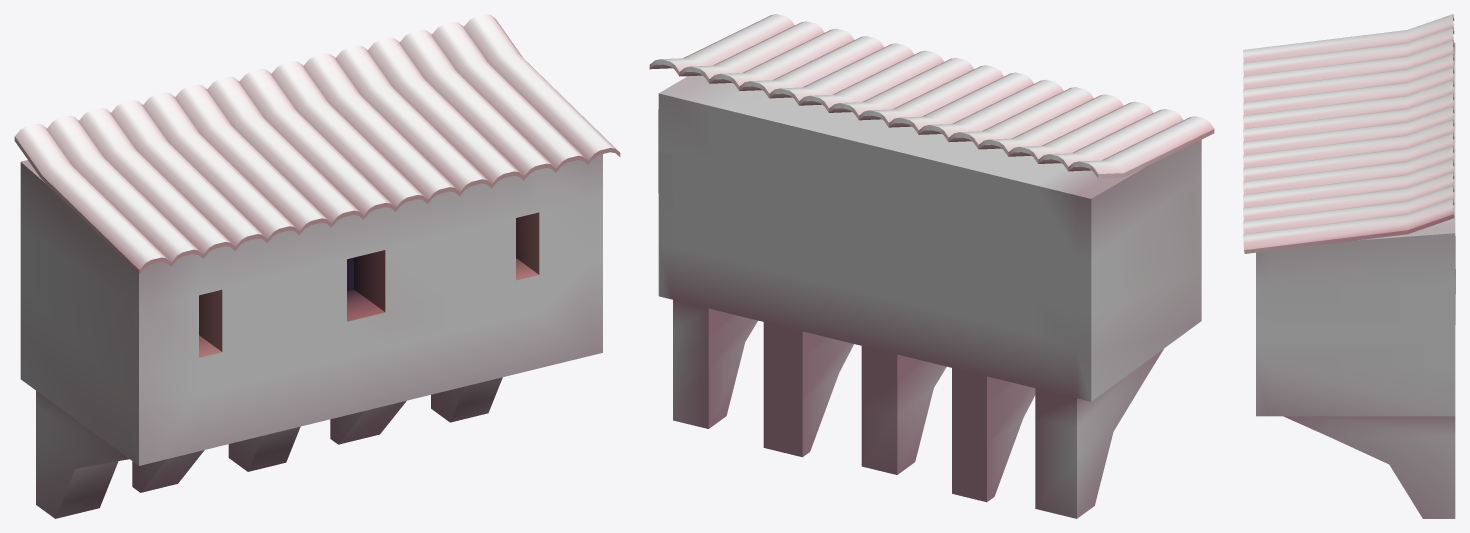
File: CityHouse_02.fbx
The picture shows the model from 3 angles, left to right: view 1: azimuth 30°, elevation 25°; view 2: azimuth 150°, elevation 25°; view 3: azimuth 270°, elevation 25°; orthographic projection. The views are drawn at different scales.
Visible parts, largest first — view 1: house.002, roof.002; view 2: house.002, roof.002; view 3: house.002, roof.002.
Part boxes in pixels (x1,y1,x2,y2): house.002: (20,154,602,518); roof.002: (14,14,620,274); house.002: (658,75,1201,518); roof.002: (649,14,1214,178); house.002: (1256,42,1455,518); roof.002: (1243,14,1454,253).
Size of the model in its own units: 753 by 581 by 343.
